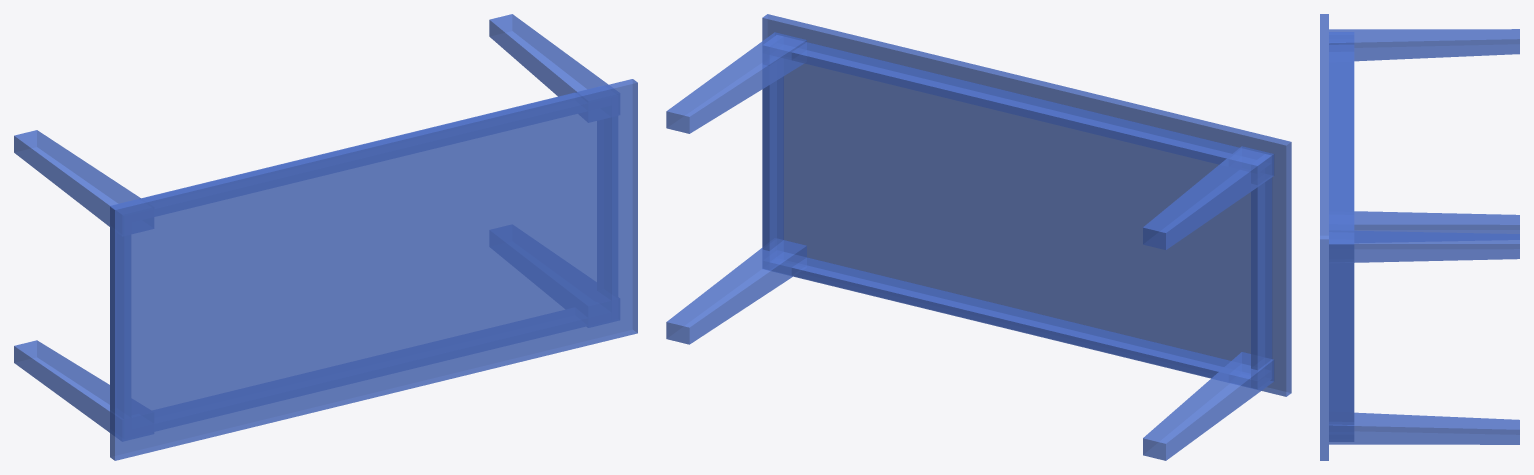
Rendered from table1.glb.
3 renders of one model, left to right at view 1: azimuth 30°, elevation 25°; view 2: azimuth 150°, elevation 25°; view 3: azimuth 270°, elevation 25°, orthographic. The views are drawn at different scales.
Visible parts, largest first — view 1: table; view 2: table; view 3: table.
Part boxes in pixels (<box>): table: <box>14,14,637,460</box>; table: <box>666,14,1291,460</box>; table: <box>1320,14,1519,460</box>.
Size of the model in its own units: 128 by 58.83 by 48.12.
